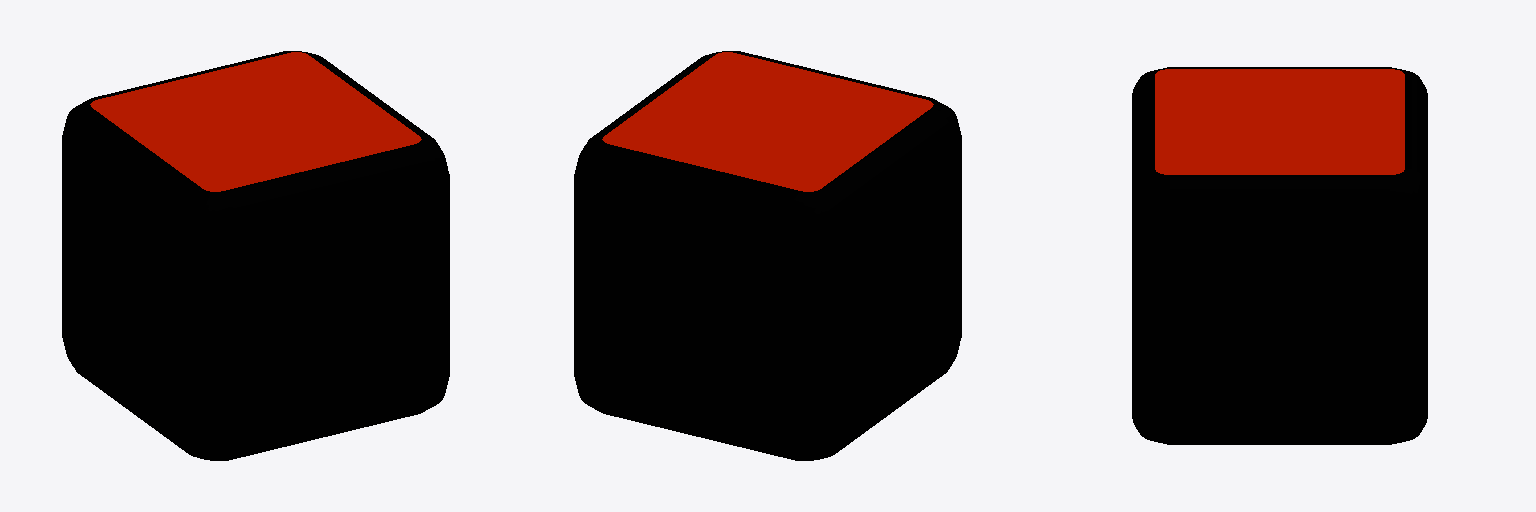
File: center_o.obj
3 renders of one model, left to right at view 1: azimuth 30°, elevation 25°; view 2: azimuth 150°, elevation 25°; view 3: azimuth 270°, elevation 25°, orthographic.
Visible parts, largest first — view 1: Cube; view 2: Cube; view 3: Cube.
Boxes of the visible parts, <box> form: Cube: <box>62,51,449,460</box>; Cube: <box>574,51,961,460</box>; Cube: <box>1132,67,1427,444</box>.
Bounding box in the file's own units: 2 × 2 × 2.